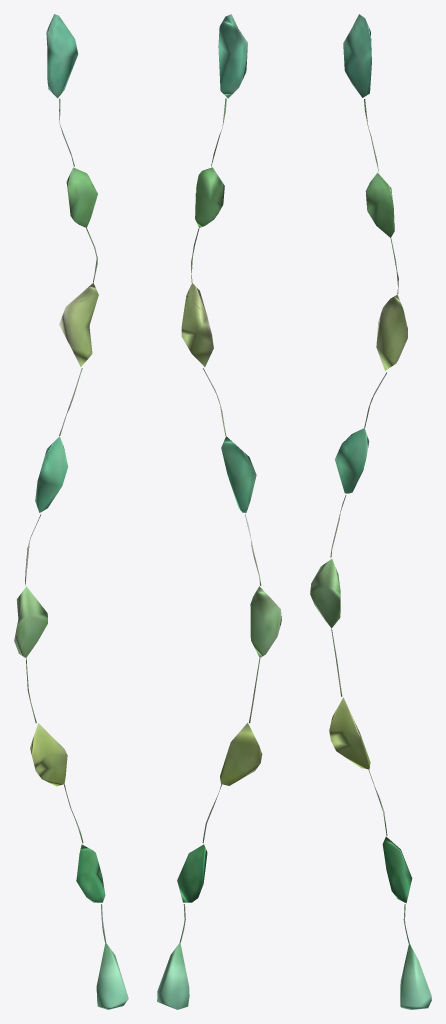
Rendered from kelp.glb.
3 views of the same model, side by side, from view 1: azimuth 30°, elevation 25°; view 2: azimuth 150°, elevation 25°; view 3: azimuth 330°, elevation 25° (orthographic). The views are drawn at different scales.
Parts seen in each view (by area): view 1: kelp; view 2: kelp; view 3: kelp.
Part boxes in pixels (bbox=[...]): kelp: bbox=[14, 14, 128, 1009]; kelp: bbox=[157, 14, 281, 1009]; kelp: bbox=[310, 14, 431, 1009].
Size of the model in its own units: 0.1721 by 1.45 by 0.0453.
Materials: 1 (1 with a texture image).
